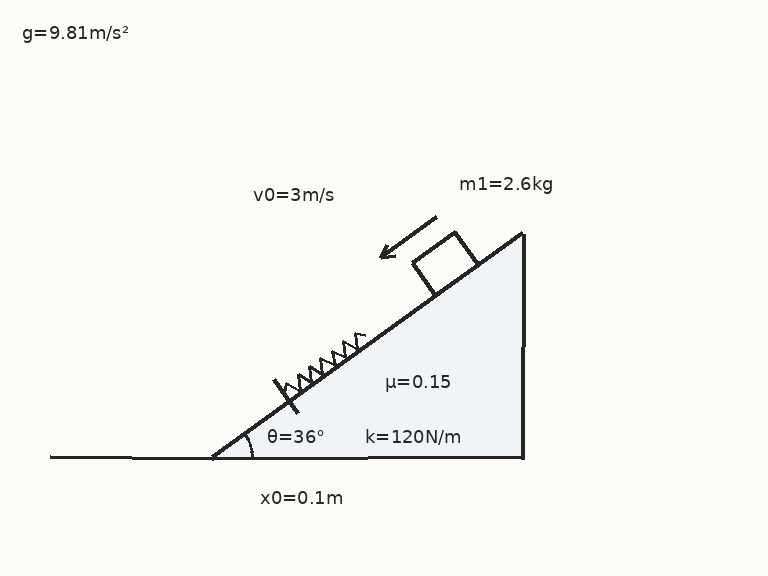block: (410, 230, 480, 297)
ramp: (210, 230, 524, 459)
spring: (282, 331, 367, 395)
